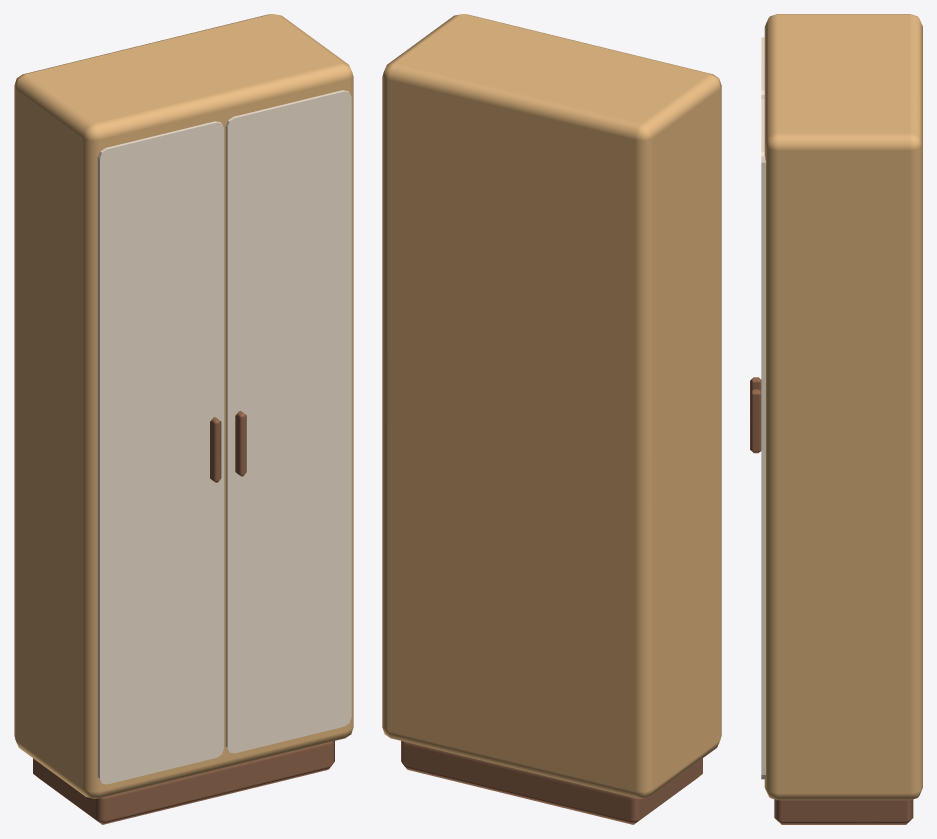
Rendered from kit_cabinet_tall_v1.glb.
3 views of the same model, side by side, from view 1: azimuth 30°, elevation 25°; view 2: azimuth 150°, elevation 25°; view 3: azimuth 270°, elevation 25° (orthographic).
Parts seen in each view (by area): view 1: body; view 2: body; view 3: body.
Boxes of the visible parts, bbox=[...] form: body: bbox=[14, 14, 353, 824]; body: bbox=[382, 14, 721, 824]; body: bbox=[750, 14, 922, 824].
Bounding box in the file's own units: 0.8 × 2 × 0.45.
